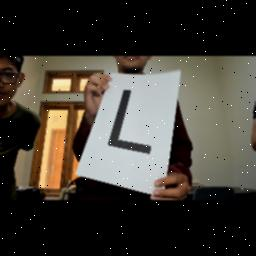l: (100, 82, 164, 160)
